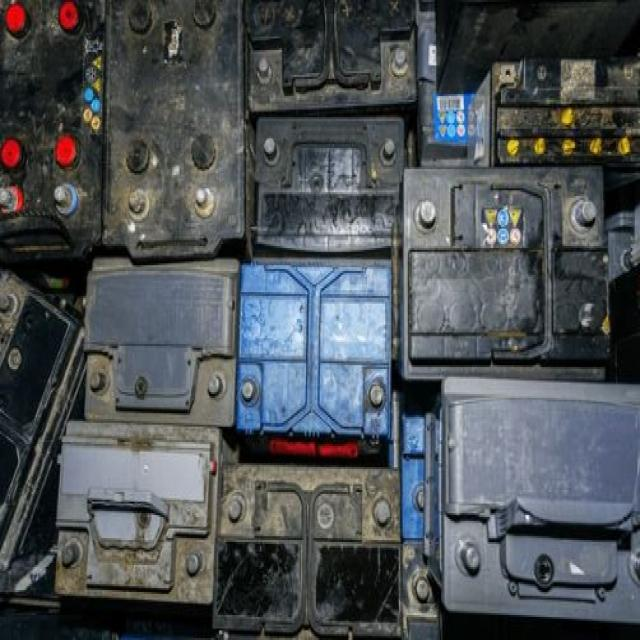electronic: (81, 249, 246, 430)
